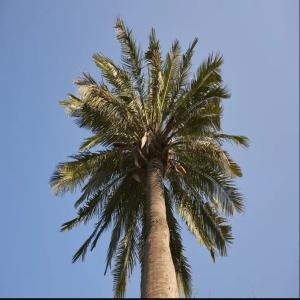palm tree: (48, 13, 250, 298)
